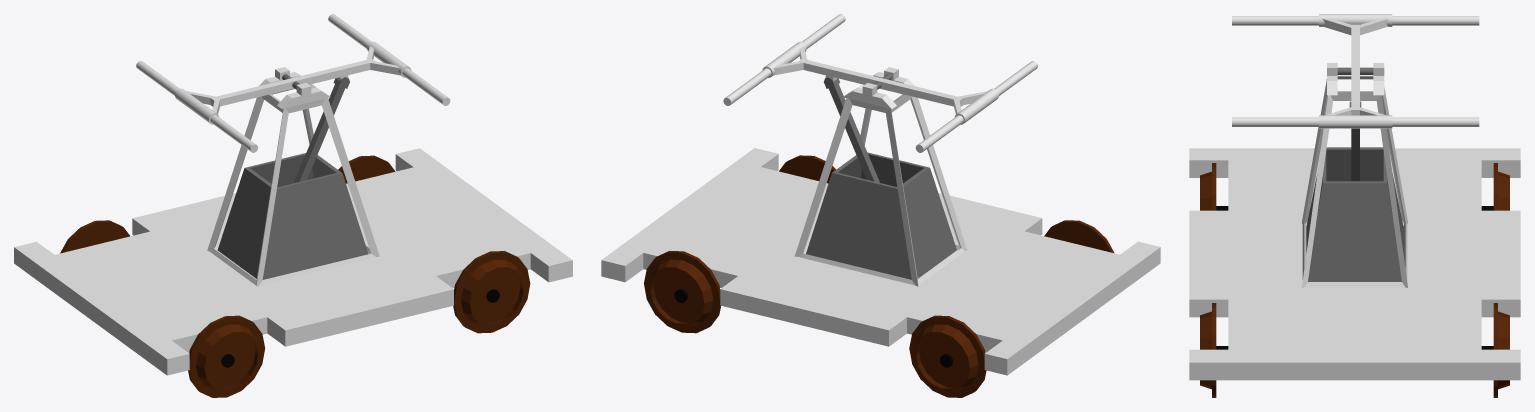
The model's file is Дрезина.fbx.
3 renders of one model, left to right at view 1: azimuth 30°, elevation 25°; view 2: azimuth 150°, elevation 25°; view 3: azimuth 270°, elevation 25°, orthographic. The views are drawn at different scales.
Parts seen in each view (by area): view 1: Cube, Cube.002, Cube.001, Cylinder.006, Cylinder.003, Cube.003, Cylinder.005, Cube.009, Cube.005, Cube.006, Cube.004, Cylinder.001; view 2: Cube, Cube.002, Cube.001, Cylinder.001, Cylinder.005, Cube.003, Cylinder.006, Cube.009, Cube.004, Cube.005, Cube.006, Cylinder.003; view 3: Cube, Cube.002, Cube.001, Cube.003, Cube.005, Cube.006, Cylinder.001, Cylinder.003, Cube.004, Cylinder.005, Cylinder.006, Cube.009.
Boxes of the visible parts, <box> form: Cube: <box>14,148,572,375</box>; Cube.002: <box>217,153,368,279</box>; Cube.001: <box>207,84,379,286</box>; Cylinder.006: <box>188,315,265,397</box>; Cylinder.003: <box>453,251,530,333</box>; Cube.003: <box>175,41,411,124</box>; Cylinder.005: <box>60,220,129,253</box>; Cube.009: <box>294,77,349,183</box>; Cube.005: <box>328,14,450,105</box>; Cube.006: <box>136,61,258,152</box>; Cube.004: <box>259,67,330,108</box>; Cylinder.001: <box>338,155,395,183</box>; Cube: <box>601,148,1160,375</box>; Cube.002: <box>806,152,956,279</box>; Cube.001: <box>794,84,967,286</box>; Cylinder.001: <box>644,251,720,333</box>; Cylinder.005: <box>909,315,986,397</box>; Cube.003: <box>762,41,998,124</box>; Cylinder.006: <box>1044,220,1114,253</box>; Cube.009: <box>824,77,879,182</box>; Cube.004: <box>843,67,914,109</box>; Cube.005: <box>723,14,845,105</box>; Cube.006: <box>915,61,1037,152</box>; Cylinder.003: <box>779,155,835,183</box>; Cube: <box>1189,148,1520,380</box>; Cube.002: <box>1306,147,1403,281</box>; Cube.001: <box>1301,75,1407,287</box>; Cube.003: <box>1319,14,1392,128</box>; Cube.005: <box>1232,117,1479,126</box>; Cube.006: <box>1232,16,1479,25</box>; Cylinder.001: <box>1493,303,1509,397</box>; Cylinder.003: <box>1200,303,1216,397</box>; Cube.004: <box>1327,63,1384,95</box>; Cylinder.005: <box>1493,163,1509,210</box>; Cylinder.006: <box>1200,163,1216,210</box>; Cube.009: <box>1349,101,1361,181</box>.
Bounding box in the file's own units: 340 × 520 × 292.
